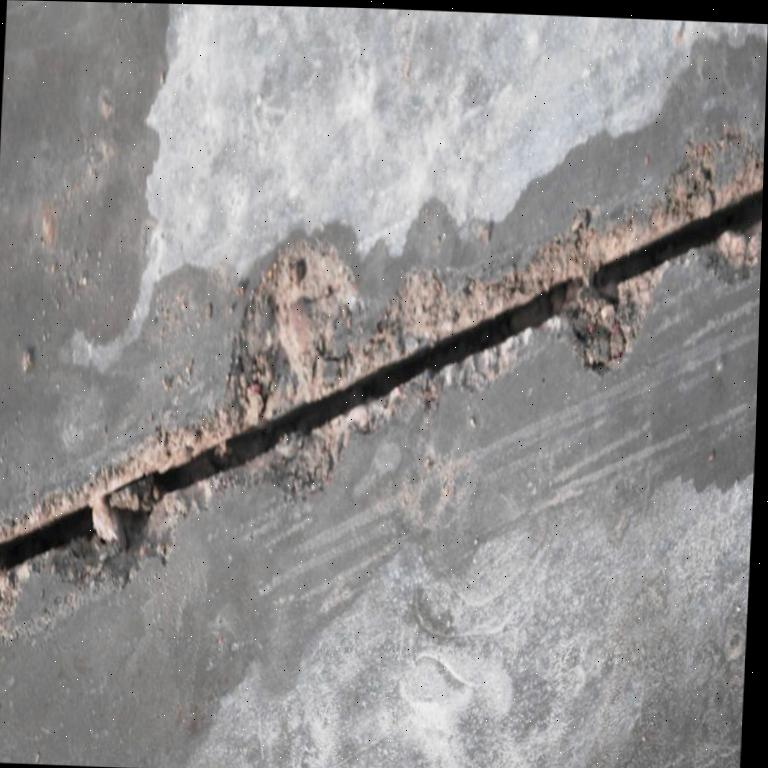exposed_rebar: (107, 279, 581, 503), (593, 189, 763, 286), (0, 511, 83, 569)
spalling: (0, 131, 764, 616)
